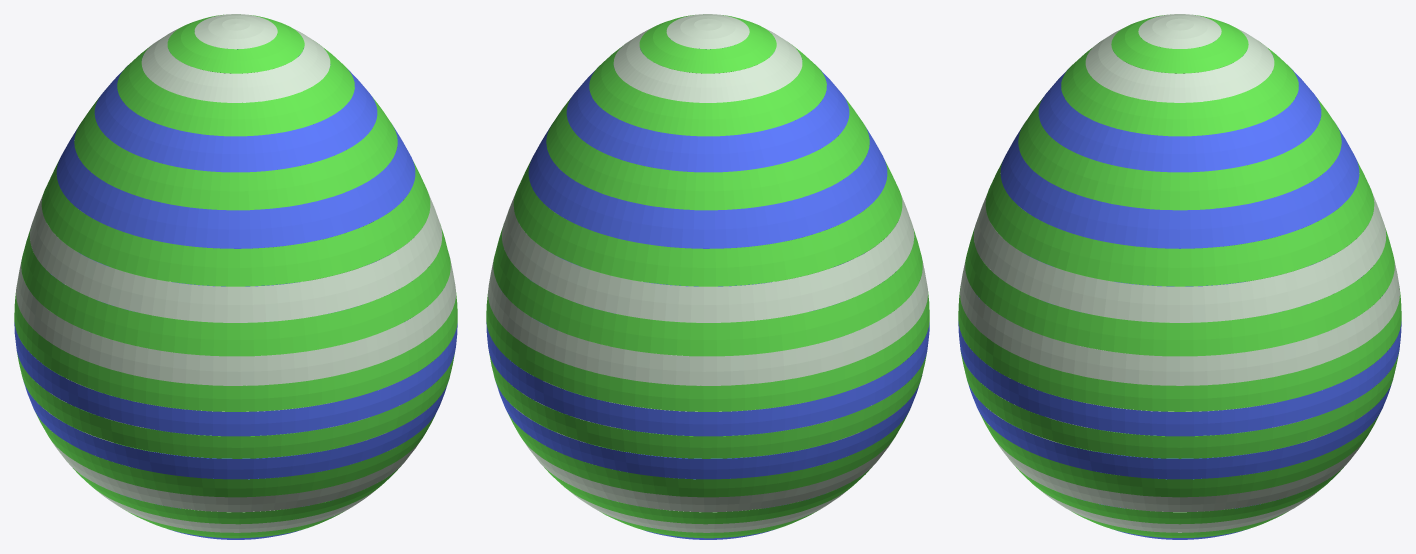
Rendered from greeneggDraco.gltf.
The picture shows the model from 3 angles, left to right: view 1: azimuth 30°, elevation 25°; view 2: azimuth 150°, elevation 25°; view 3: azimuth 270°, elevation 25°; orthographic projection.
Visible parts, largest first — view 1: Sphere; view 2: Sphere; view 3: Sphere.
Boxes of the visible parts, bbox=[...] form: Sphere: bbox=[14, 14, 457, 539]; Sphere: bbox=[486, 14, 929, 539]; Sphere: bbox=[958, 14, 1401, 539].
Size of the model in its own units: 2 by 2.46 by 2.
